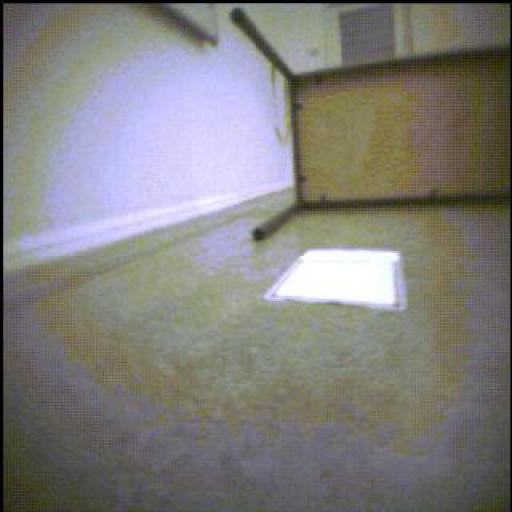Pad: (267, 249, 408, 311)
